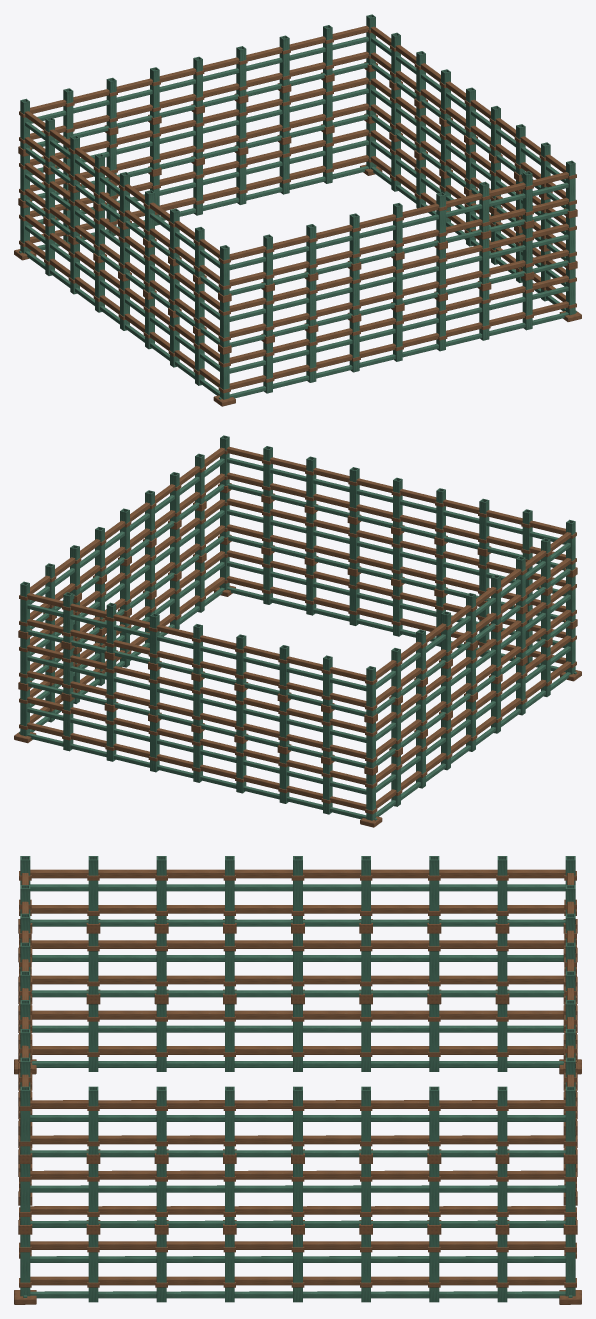
3 renders of one model, top to bottom at view 1: azimuth 30°, elevation 25°; view 2: azimuth 150°, elevation 25°; view 3: azimuth 270°, elevation 25°, orthographic. The views are drawn at different scales.
Parts seen in each view (by area): view 1: no part large enough to name; view 2: no part large enough to name; view 3: Tier 2 side 1 post 0, Tier 2 side 1 post 2, Tier 2 side 1 post 6, Tier 2 side 2 post 0, Tier 0 side 1 post 2, Tier 0 side 1 post 6, Tier 2 side 1 post 1, Tier 2 side 1 post 7, Tier 0 side 1 post 1, Tier 0 side 1 post 7, Tier 0 side 3 post 2, Tier 0 side 3 post 6 (+70 smaller).
Boxes of the visible parts, x1,y1,x2,y2 form: Tier 2 side 1 post 0: [20, 1086, 30, 1154]; Tier 2 side 1 post 2: [156, 1086, 166, 1154]; Tier 2 side 1 post 6: [429, 1086, 439, 1154]; Tier 2 side 2 post 0: [565, 1086, 575, 1154]; Tier 0 side 1 post 2: [156, 1234, 166, 1302]; Tier 0 side 1 post 6: [429, 1234, 439, 1302]; Tier 2 side 1 post 1: [88, 1086, 98, 1154]; Tier 2 side 1 post 7: [497, 1086, 507, 1154]; Tier 0 side 1 post 1: [88, 1234, 98, 1302]; Tier 0 side 1 post 7: [497, 1234, 507, 1302]; Tier 0 side 3 post 2: [429, 1004, 439, 1071]; Tier 0 side 3 post 6: [156, 1004, 166, 1071].
Size of the model in its own units: 3.75 by 1.54 by 3.75.
2 materials, 2 textured.
